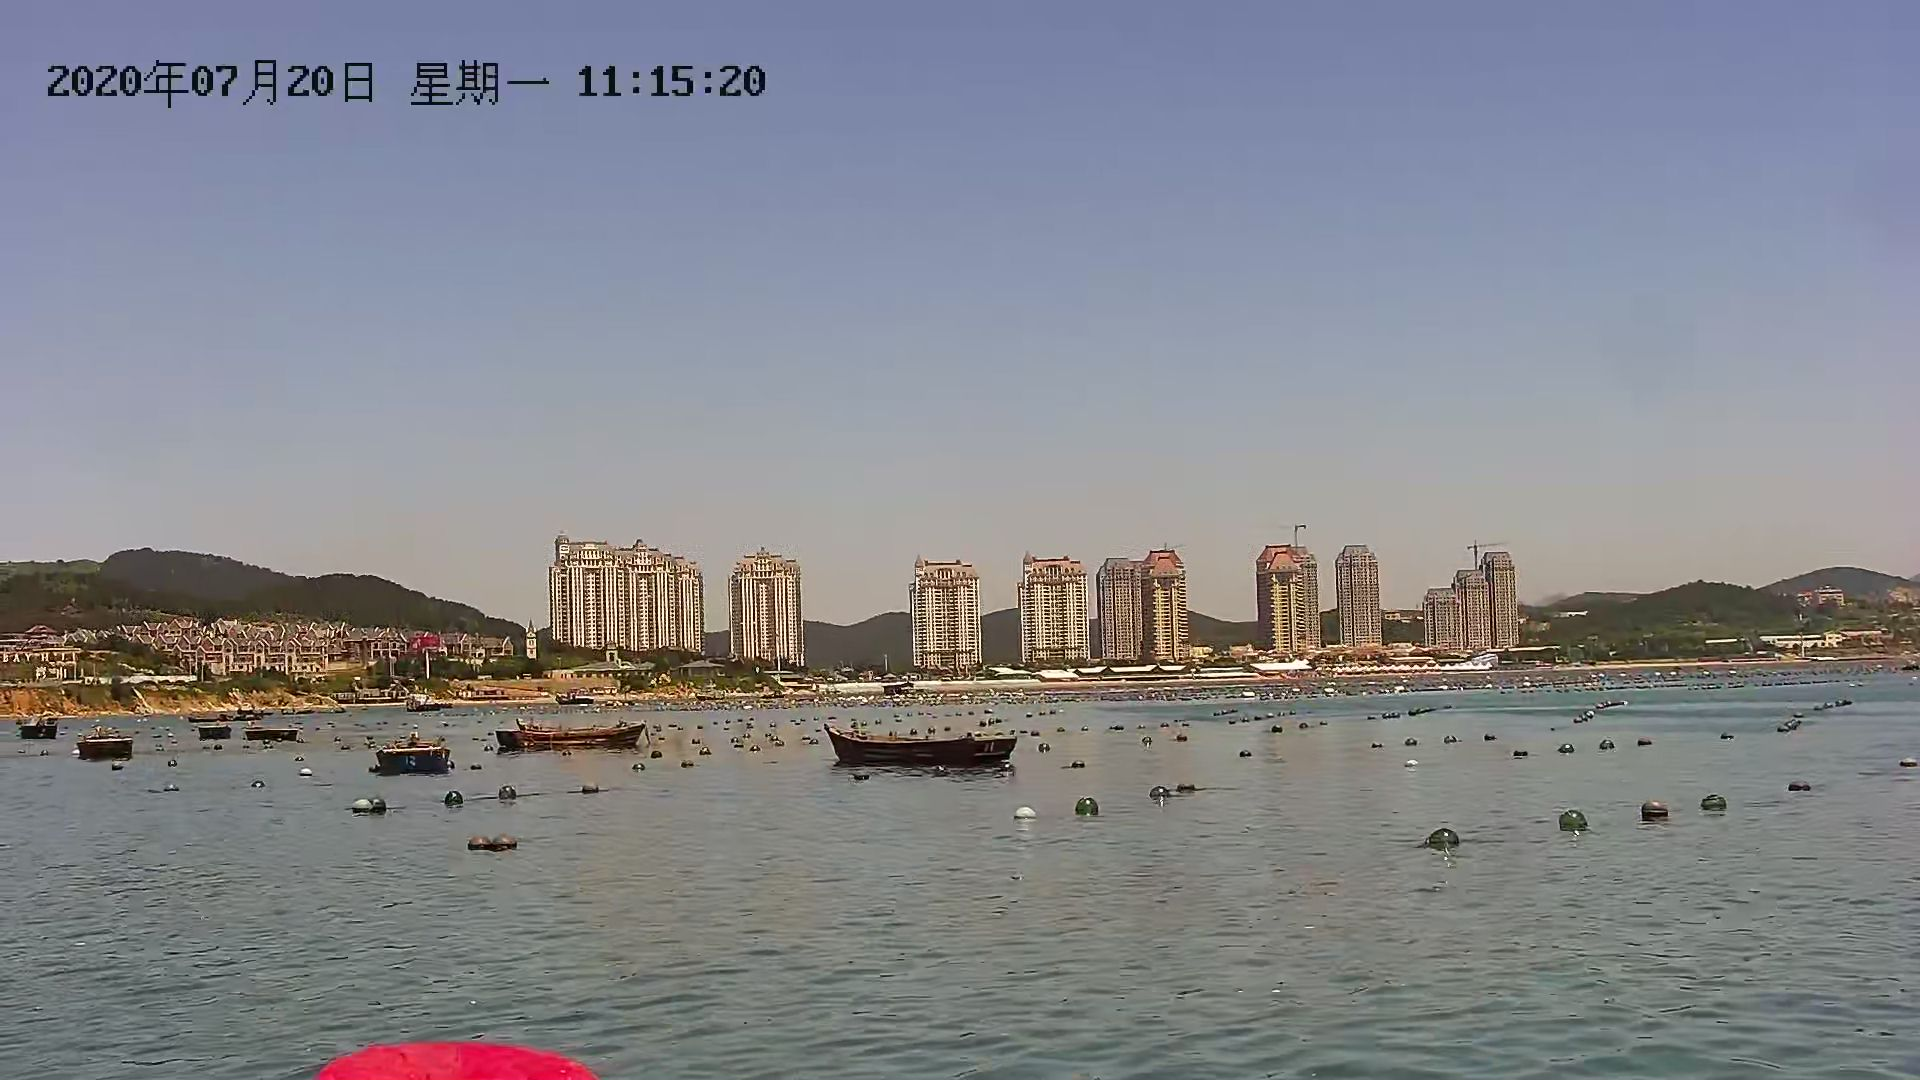ball: (1423, 822, 1462, 861), (462, 835, 521, 857), (1549, 810, 1596, 836), (1636, 793, 1667, 832), (1697, 787, 1731, 822), (352, 795, 386, 820), (1073, 791, 1108, 814), (440, 789, 469, 814), (1780, 778, 1818, 795), (1006, 804, 1040, 822), (492, 783, 514, 798)
boat: (806, 721, 1025, 774), (501, 720, 655, 754), (367, 735, 467, 775), (67, 729, 144, 757), (245, 731, 301, 753)
